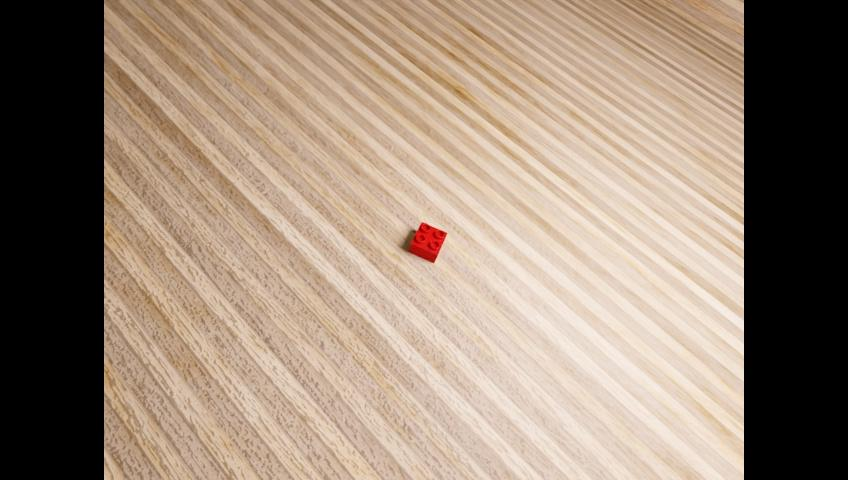2x2_red: (408, 221, 446, 262)
